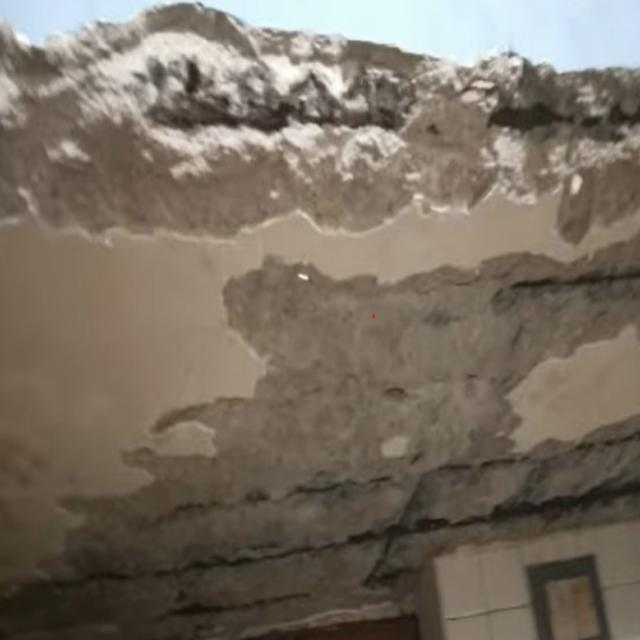Spalling: (2, 4, 640, 624)
